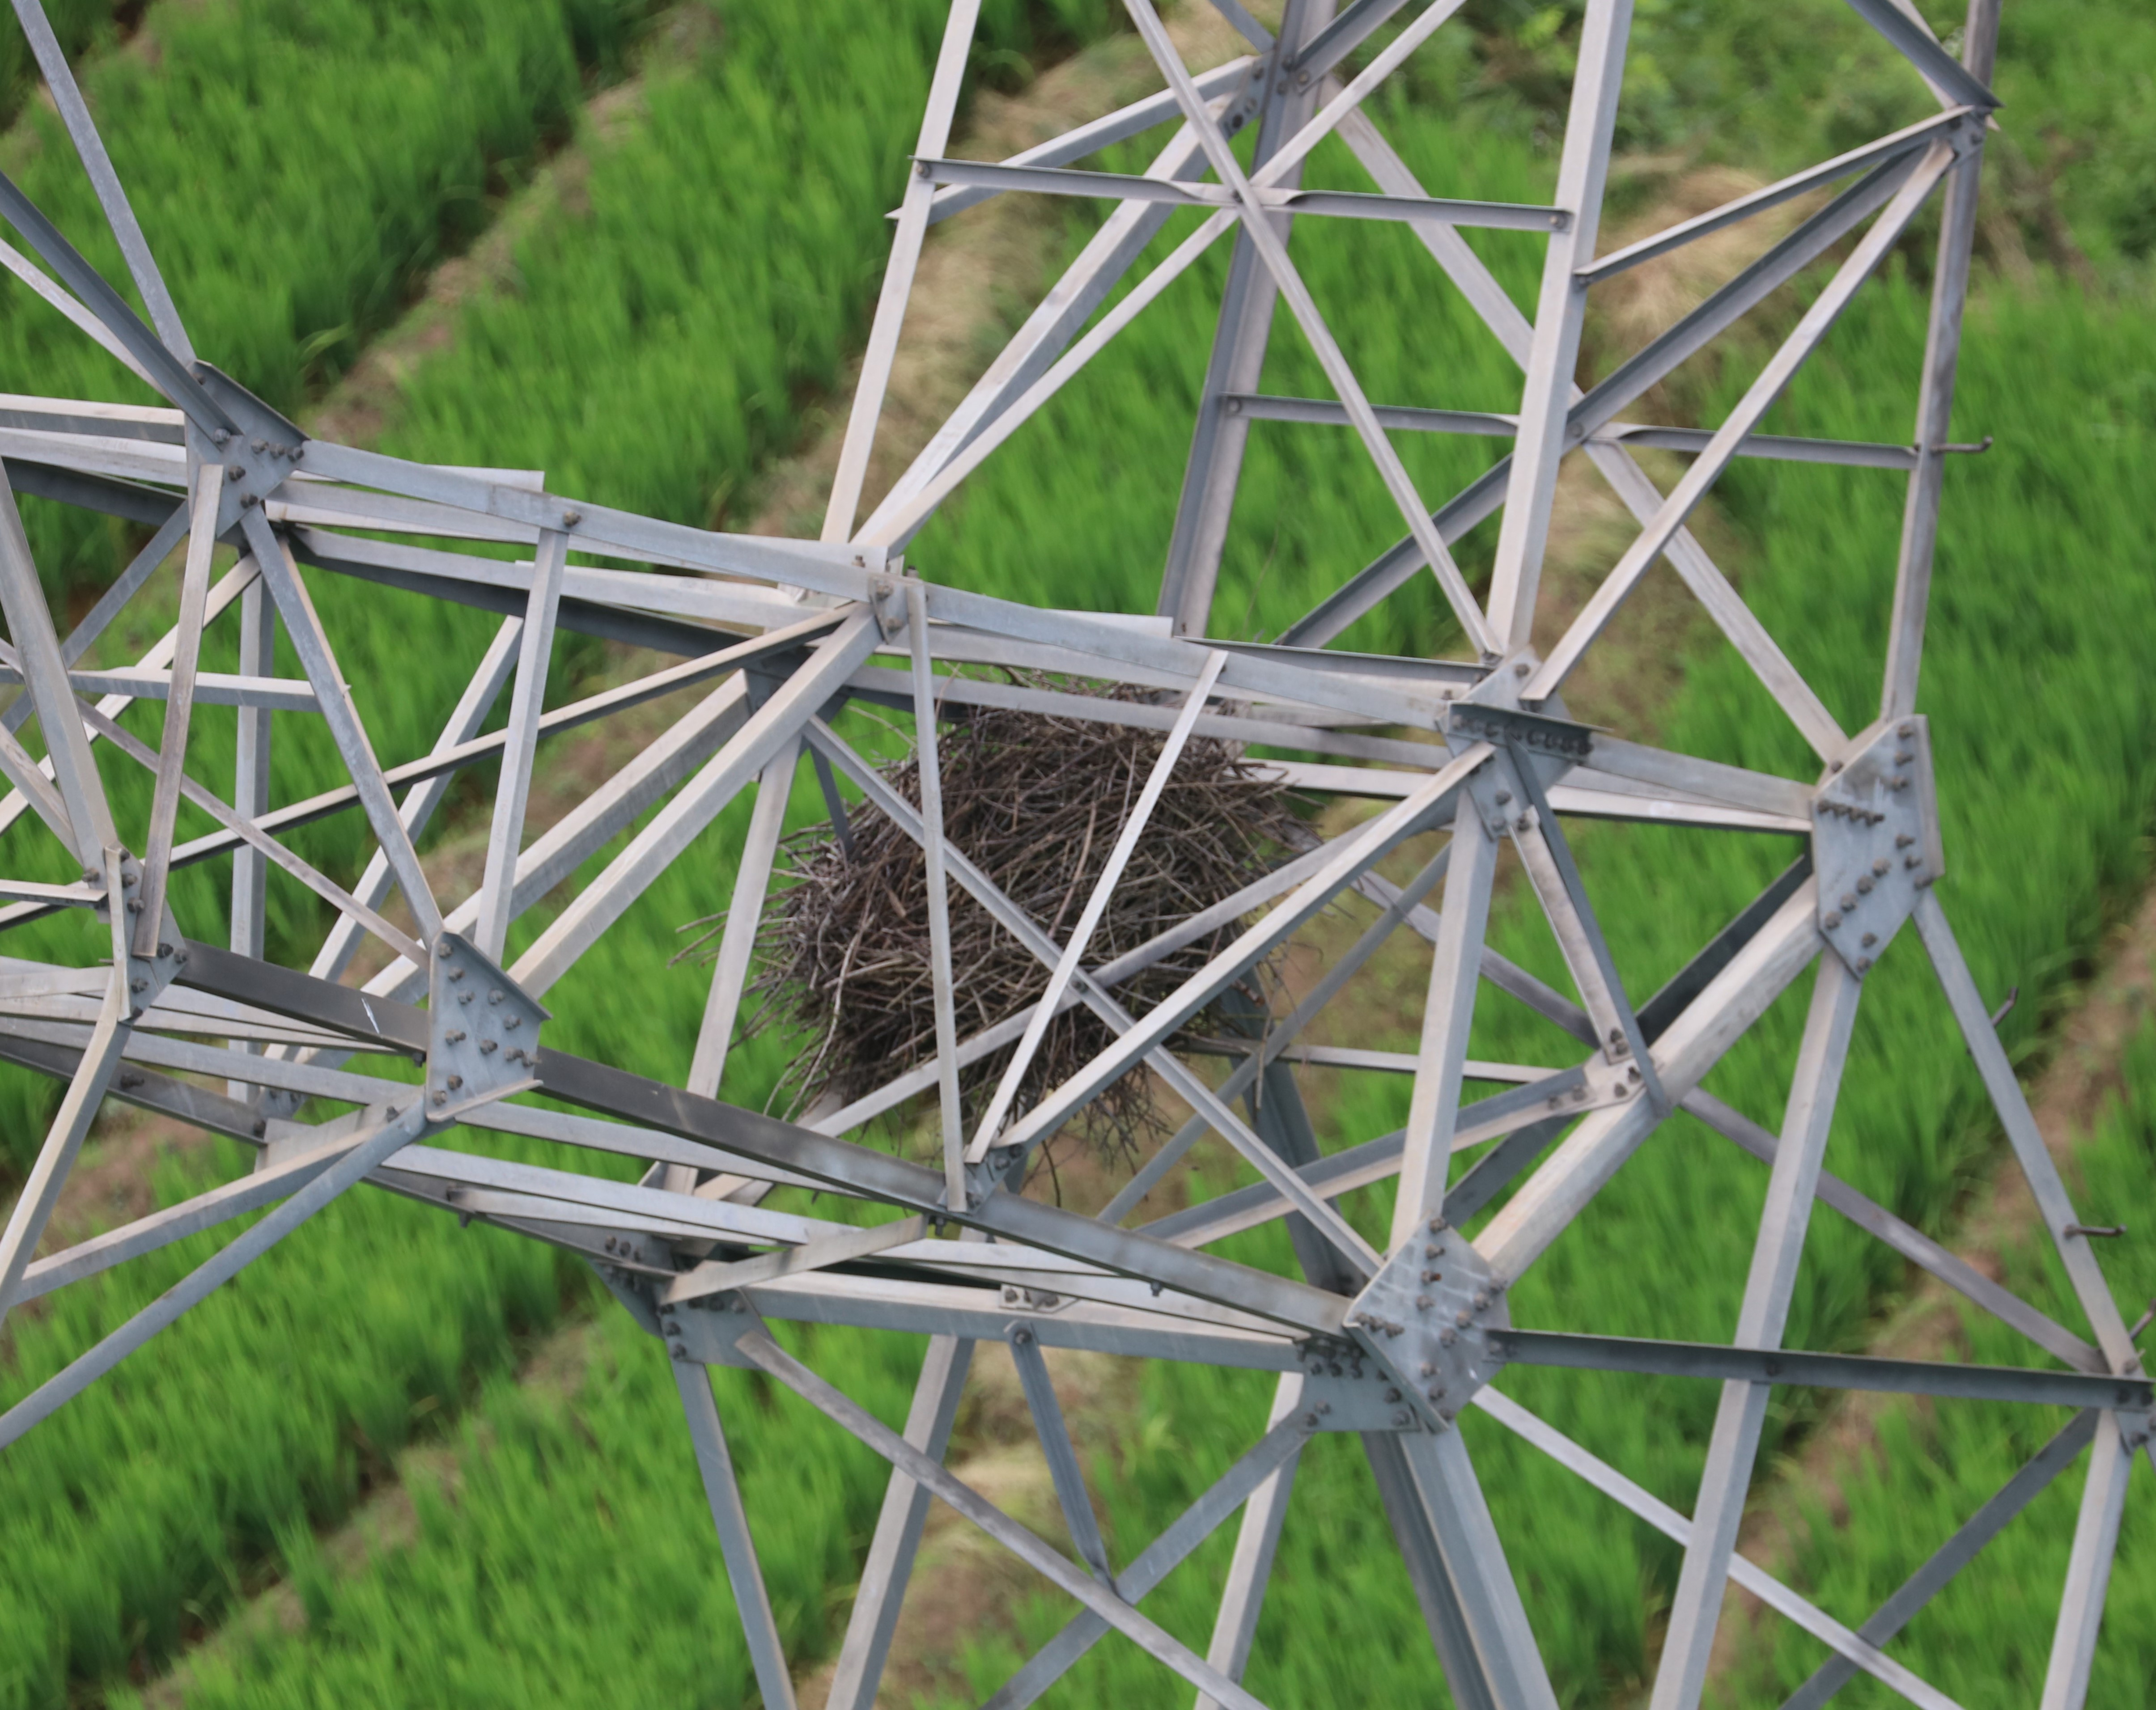niaowo: (763, 609, 1288, 1127)
